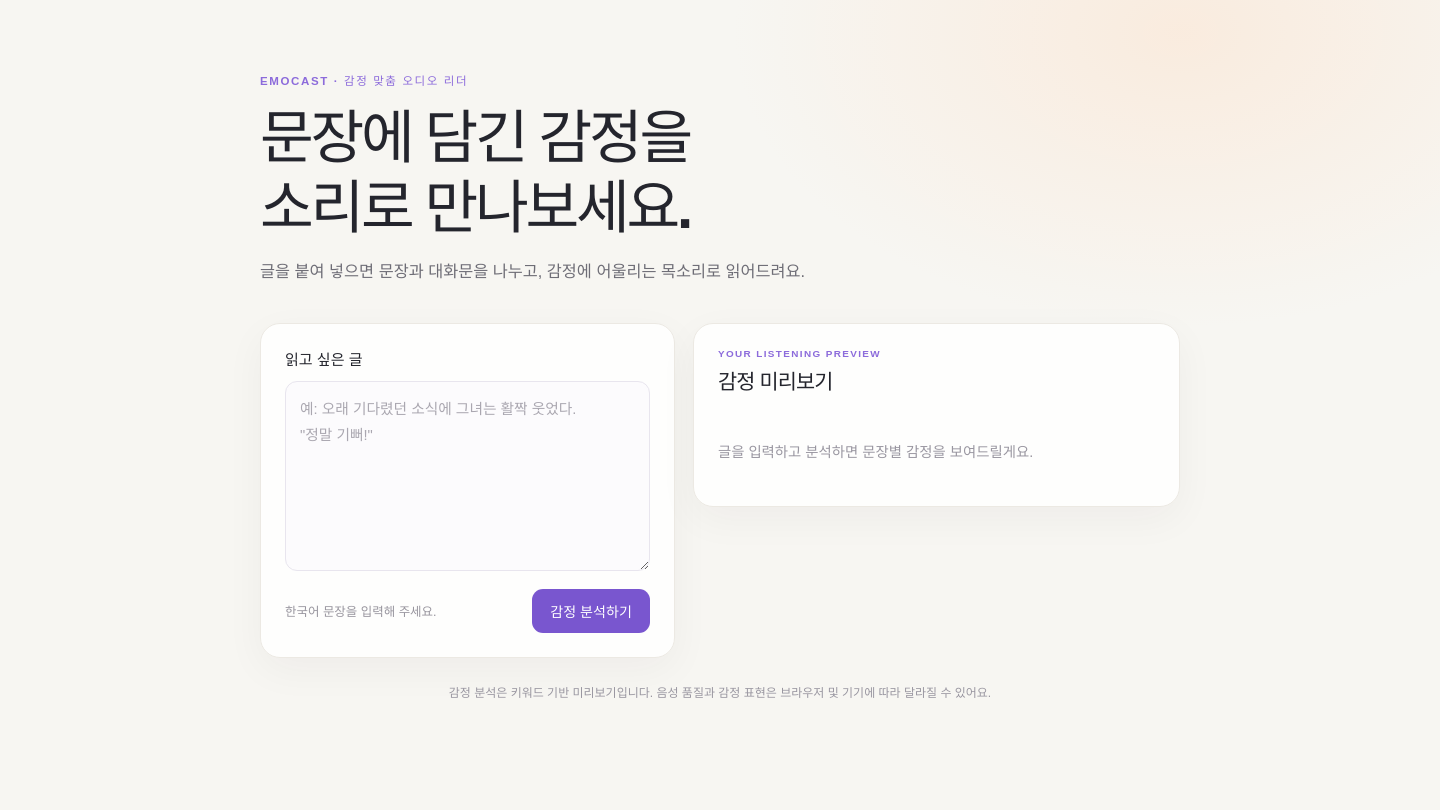
Test: EmoCast reading flow › shows sentence emotion and dialogue labels after analysis
The width and height of the screenshot is (1440, 810).
Type "그는 웃으며 말했다. \"정말 좋아!\"" into the text box labelled "읽고 싶은 글" at (467, 476), box left=285, top=380, right=650, bottom=570
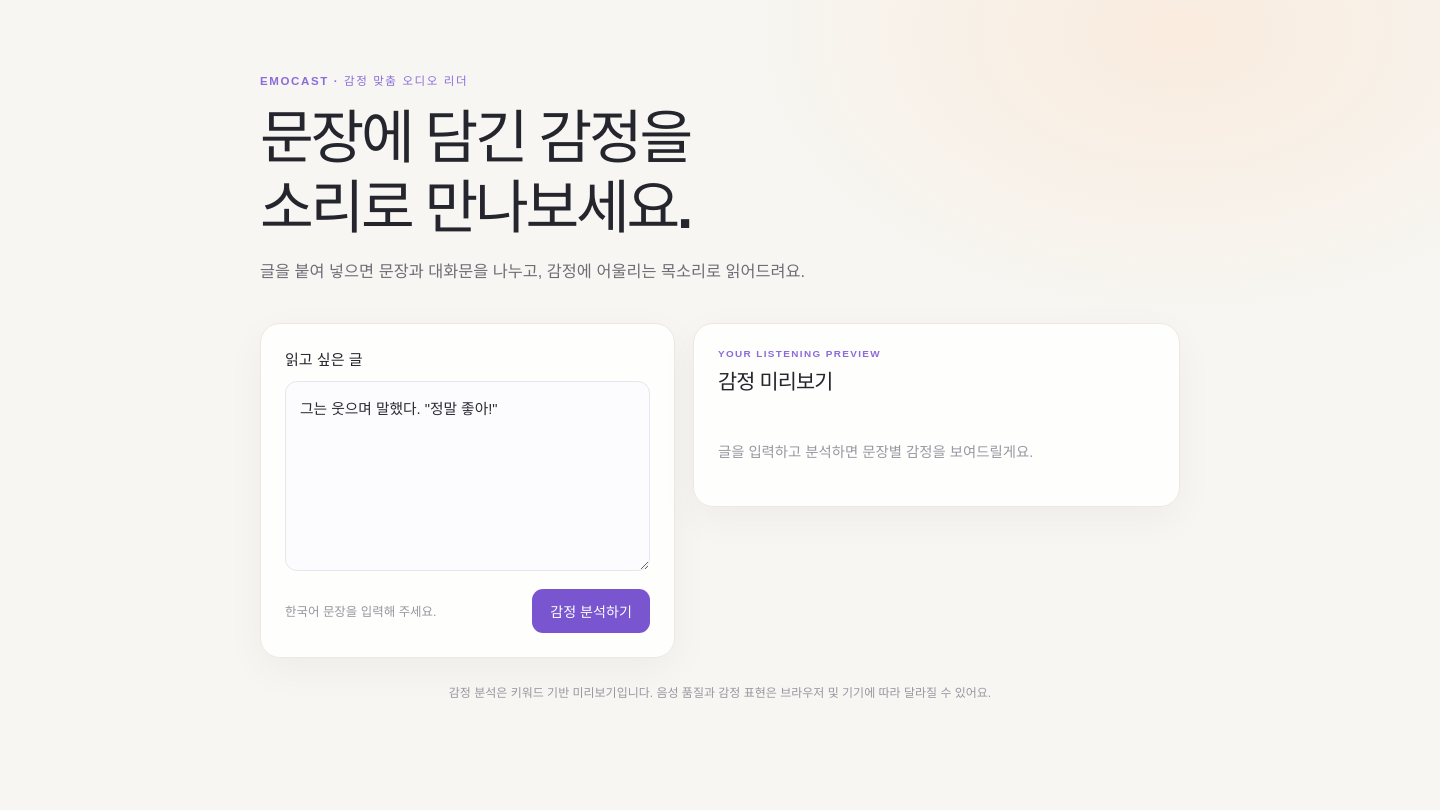
Click the button "감정 분석하기" at (591, 610), box left=532, top=588, right=650, bottom=632
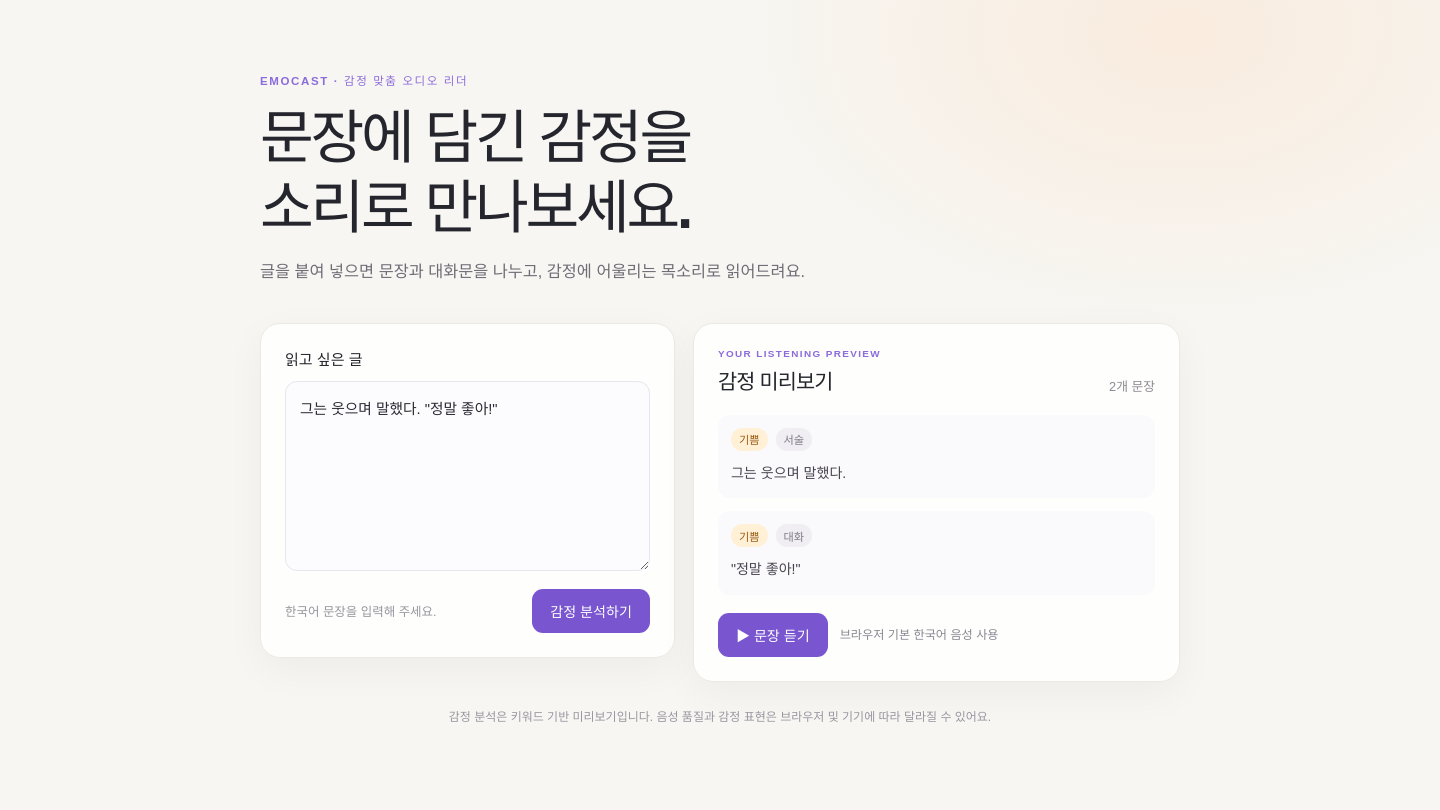
expect the text "그는 웃으며 말했다." is shown: met, box left=731, top=464, right=846, bottom=480
expect the text "\"정말 좋아!\"" is shown: met, box left=731, top=561, right=800, bottom=577
expect the text "기쁨" is shown 2 times: met, box left=731, top=428, right=768, bottom=450; left=731, top=524, right=768, bottom=547
